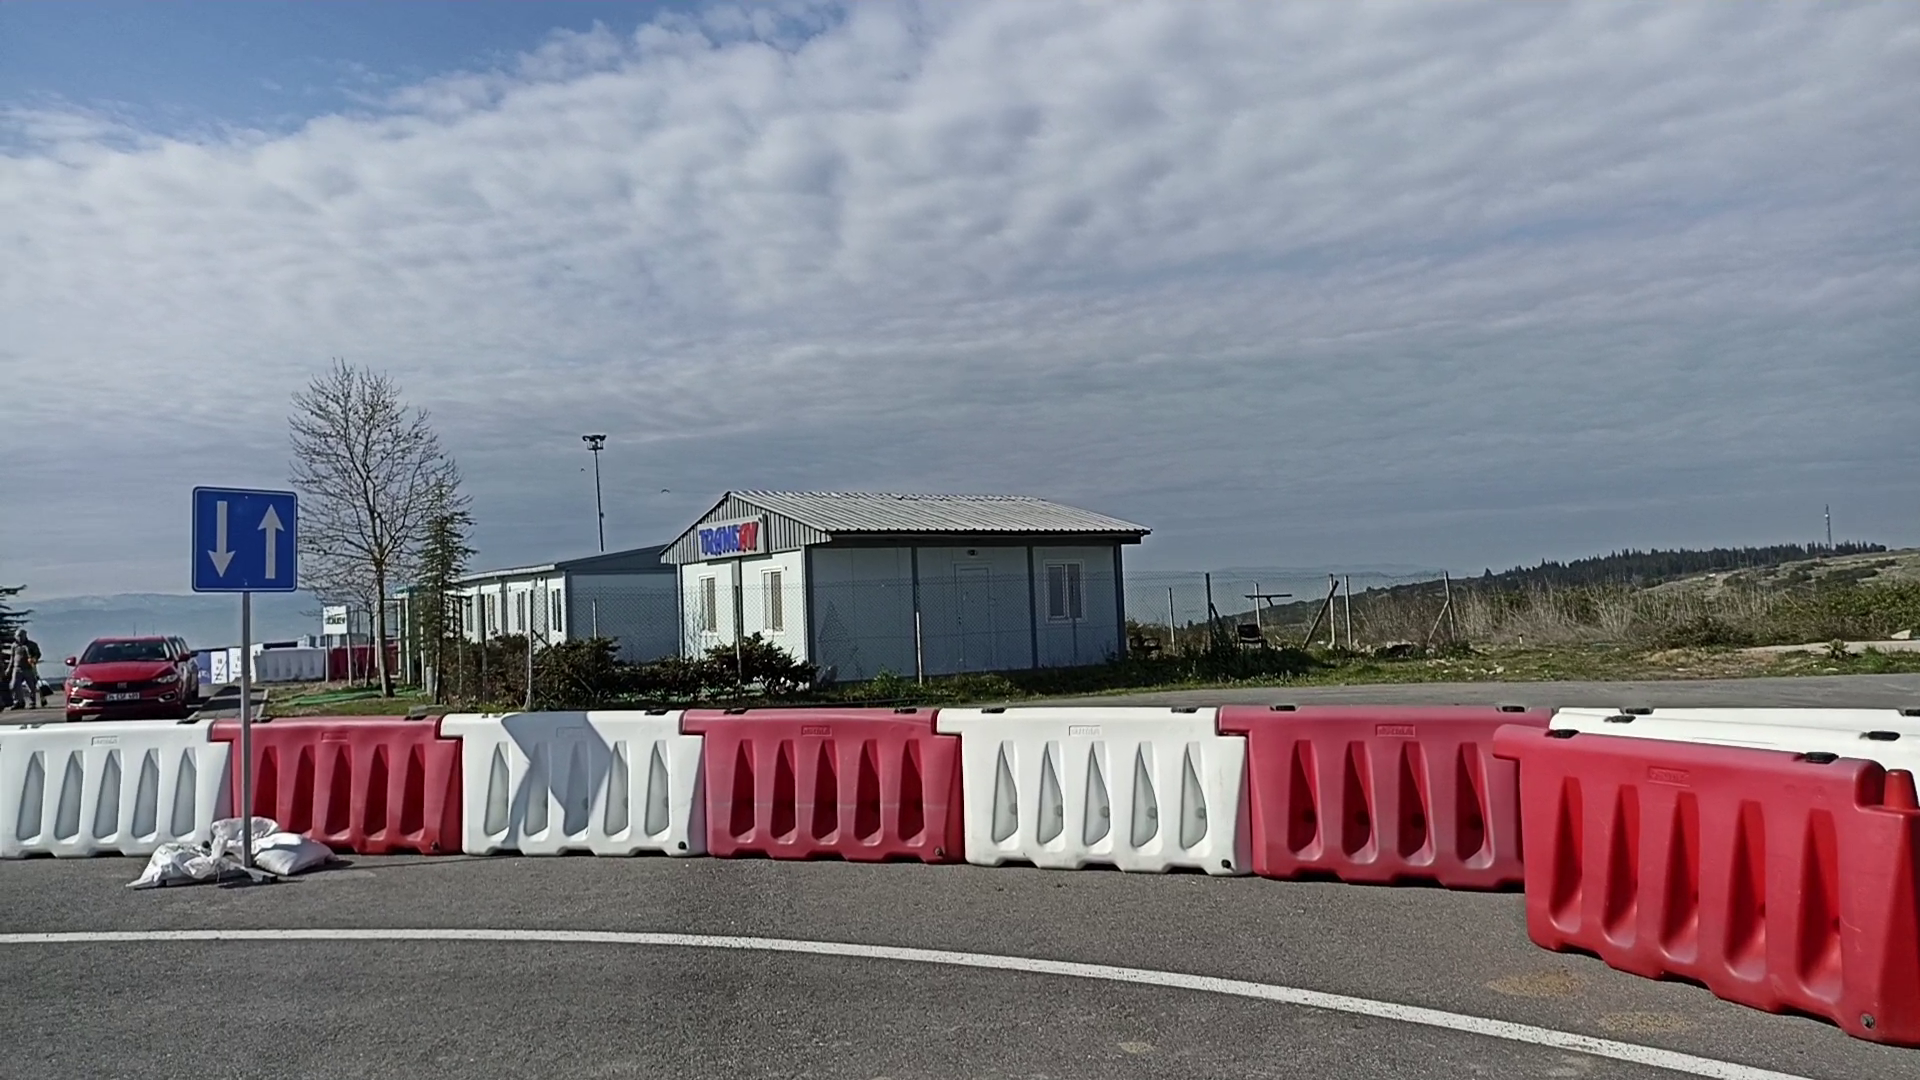oneway: (189, 483, 302, 596)
